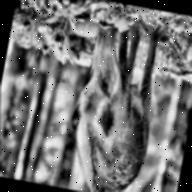boar: (62, 11, 173, 192)
